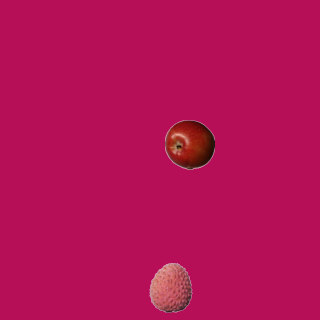Apple Braeburn: (164, 119, 214, 169)
Lychee: (145, 262, 195, 312)
